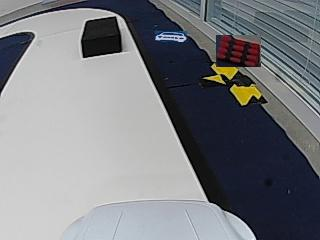block: (81, 17, 122, 57)
